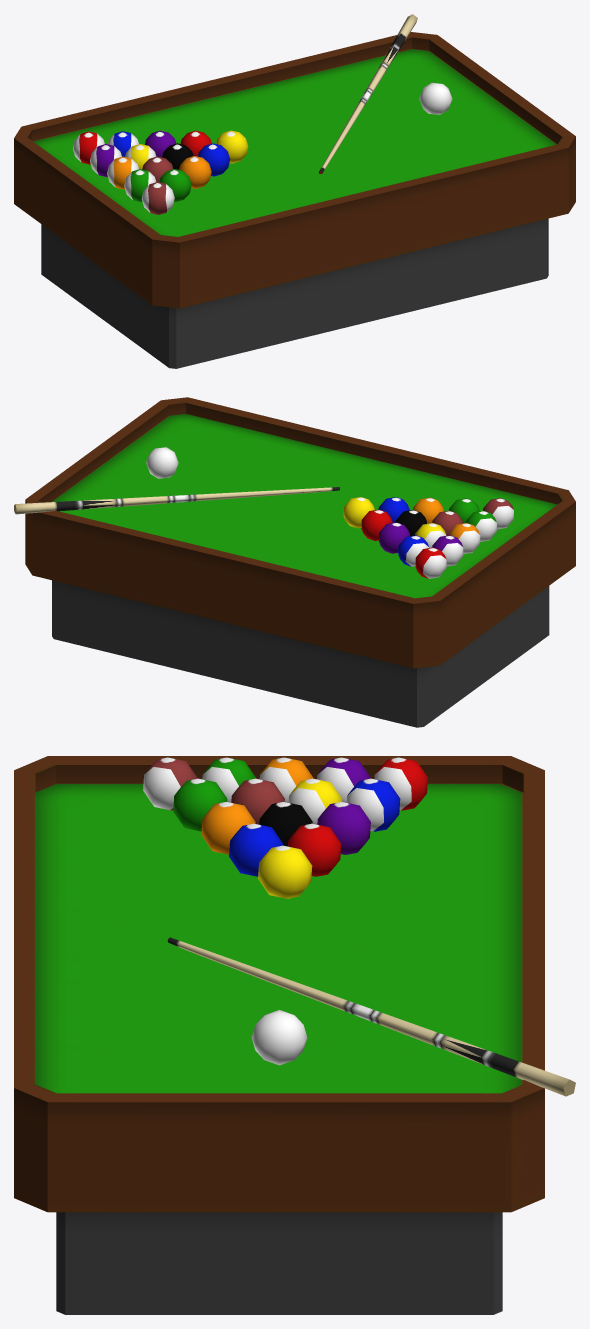
Rendered from pool_table_set.fbx.
The picture shows the model from 3 angles, top to bottom: view 1: azimuth 30°, elevation 25°; view 2: azimuth 150°, elevation 25°; view 3: azimuth 270°, elevation 25°; orthographic projection. The views are drawn at different scales.
Visible parts, largest first — view 1: PoolTable, Cylinder01, GeoSphere004, GeoSphere01, GeoSphere014, GeoSphere017, GeoSphere016, GeoSphere003, GeoSphere011, GeoSphere005, GeoSphere002, GeoSphere006 (+6 smaller); view 2: PoolTable, Cylinder01, GeoSphere006, GeoSphere01, GeoSphere012, GeoSphere017, GeoSphere015, GeoSphere008, GeoSphere005, GeoSphere004, GeoSphere002, GeoSphere003 (+6 smaller); view 3: PoolTable, Cylinder01, GeoSphere01, GeoSphere017, GeoSphere008, GeoSphere012, GeoSphere015, GeoSphere004, GeoSphere011, GeoSphere016, GeoSphere006, GeoSphere014 (+6 smaller).
Boxes of the visible parts, x1,y1,x2,y2 form: PoolTable: [14, 32, 575, 368]; Cylinder01: [319, 14, 417, 174]; GeoSphere004: [141, 182, 174, 214]; GeoSphere01: [419, 82, 452, 114]; GeoSphere014: [179, 156, 211, 188]; GeoSphere017: [216, 130, 248, 163]; GeoSphere016: [198, 143, 230, 176]; GeoSphere003: [124, 169, 156, 202]; GeoSphere011: [159, 169, 191, 202]; GeoSphere005: [90, 144, 121, 176]; GeoSphere002: [107, 156, 138, 189]; GeoSphere006: [72, 131, 104, 164]; PoolTable: [25, 397, 575, 727]; Cylinder01: [14, 487, 339, 514]; GeoSphere006: [415, 547, 446, 578]; GeoSphere01: [146, 447, 178, 478]; GeoSphere012: [379, 522, 409, 553]; GeoSphere017: [343, 497, 374, 528]; GeoSphere015: [361, 509, 392, 540]; GeoSphere008: [398, 535, 429, 566]; GeoSphere005: [432, 535, 463, 566]; GeoSphere004: [483, 498, 513, 529]; GeoSphere002: [449, 523, 480, 554]; GeoSphere003: [466, 510, 496, 541]; PoolTable: [14, 756, 544, 1314]; Cylinder01: [167, 937, 575, 1096]; GeoSphere01: [251, 1010, 307, 1065]; GeoSphere017: [258, 845, 312, 898]; GeoSphere008: [346, 778, 400, 831]; GeoSphere012: [317, 802, 370, 854]; GeoSphere015: [287, 823, 341, 876]; GeoSphere004: [143, 757, 197, 810]; GeoSphere011: [173, 778, 227, 831]; GeoSphere016: [229, 823, 282, 876]; GeoSphere006: [374, 757, 427, 810]; GeoSphere014: [201, 802, 255, 854].
Bounding box in the file's own units: 69229 × 24500 × 47507.
Materials: 18 (17 with a texture image).
